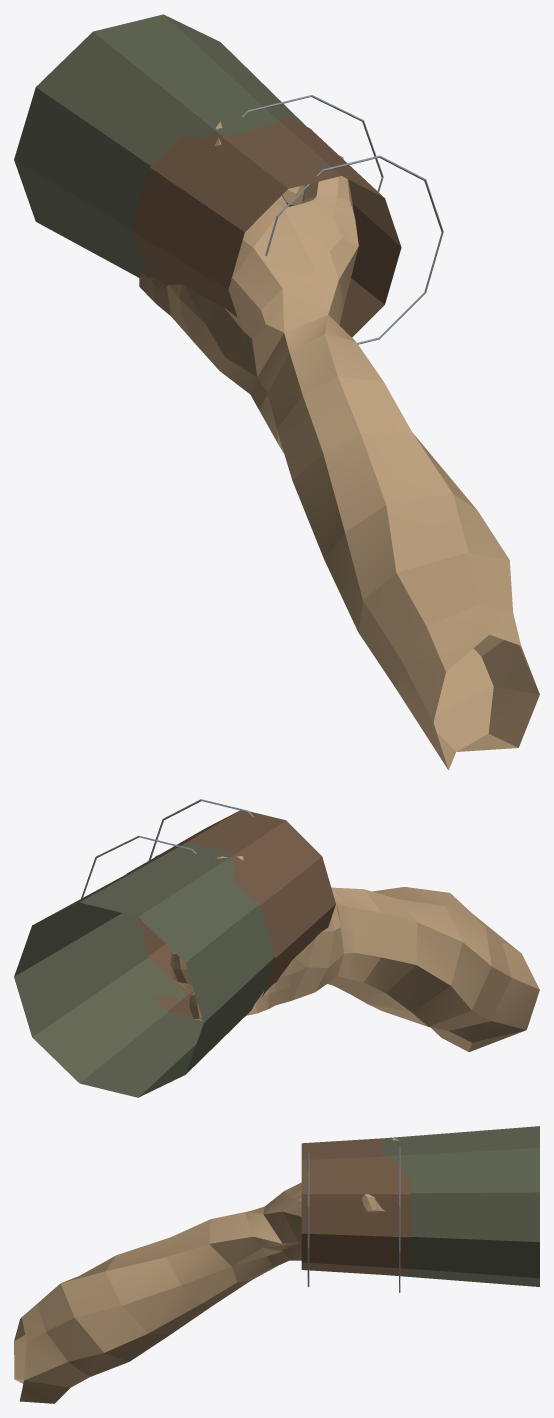
Rendered from fp_arm_left.glb.
The picture shows the model from 3 angles, top to bottom: view 1: azimuth 30°, elevation 25°; view 2: azimuth 150°, elevation 25°; view 3: azimuth 270°, elevation 25°; orthographic projection. The views are drawn at different scales.
Parts seen in each view (by area): view 1: HeroArmLeft, Left_Sleeve, Left_Bracer, Left_Cuff; view 2: Left_Sleeve, HeroArmLeft, Left_Bracer; view 3: HeroArmLeft, Left_Sleeve, Left_Bracer, Left_Cuff.
Boxes of the visible parts, box(x1,y1,x2,y2) form: HeroArmLeft: box(139, 122, 539, 769); Left_Sleeve: box(14, 14, 306, 277); Left_Bracer: box(131, 117, 401, 337); Left_Cuff: box(265, 155, 443, 344); Left_Sleeve: box(14, 842, 275, 1097); HeroArmLeft: box(155, 854, 539, 1051); Left_Bracer: box(126, 810, 335, 1016); HeroArmLeft: box(14, 1138, 399, 1403); Left_Sleeve: box(382, 1126, 539, 1286); Left_Bracer: box(301, 1138, 410, 1275); Left_Cuff: box(307, 1152, 309, 1286).
Size of the model in its own units: 0.2731 by 0.4394 by 0.75.
